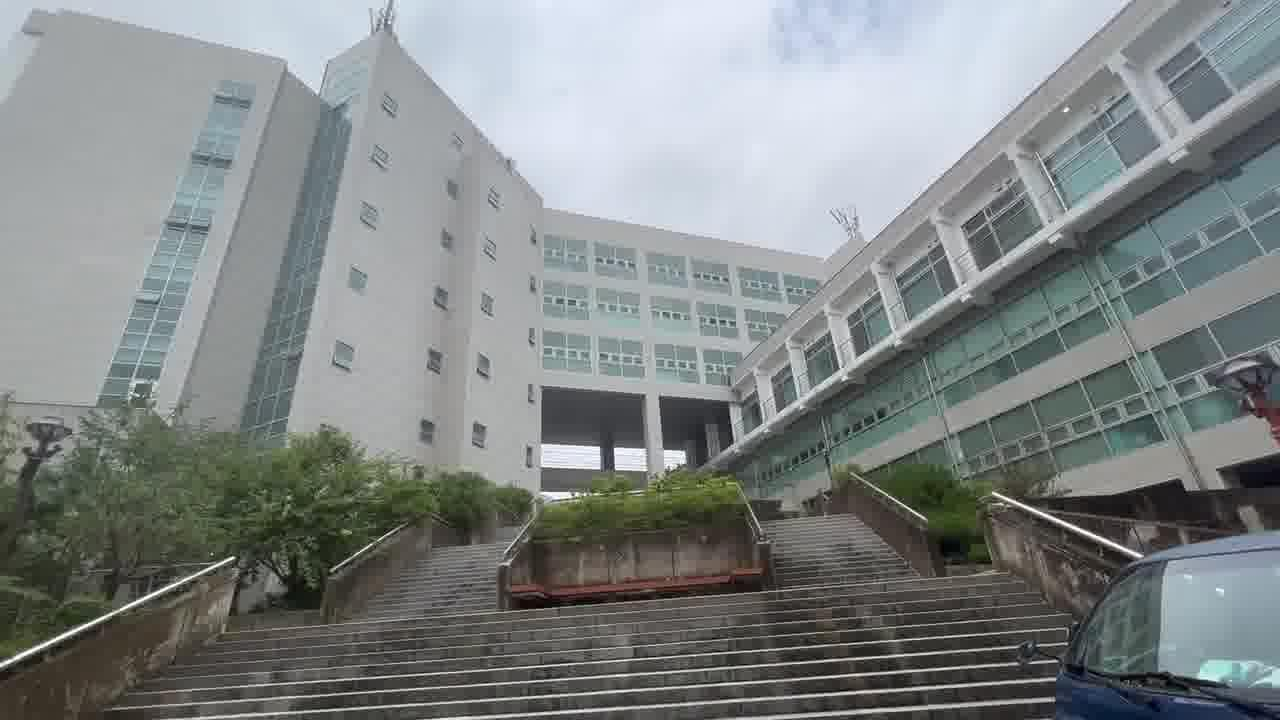building: (13, 28, 541, 431)
